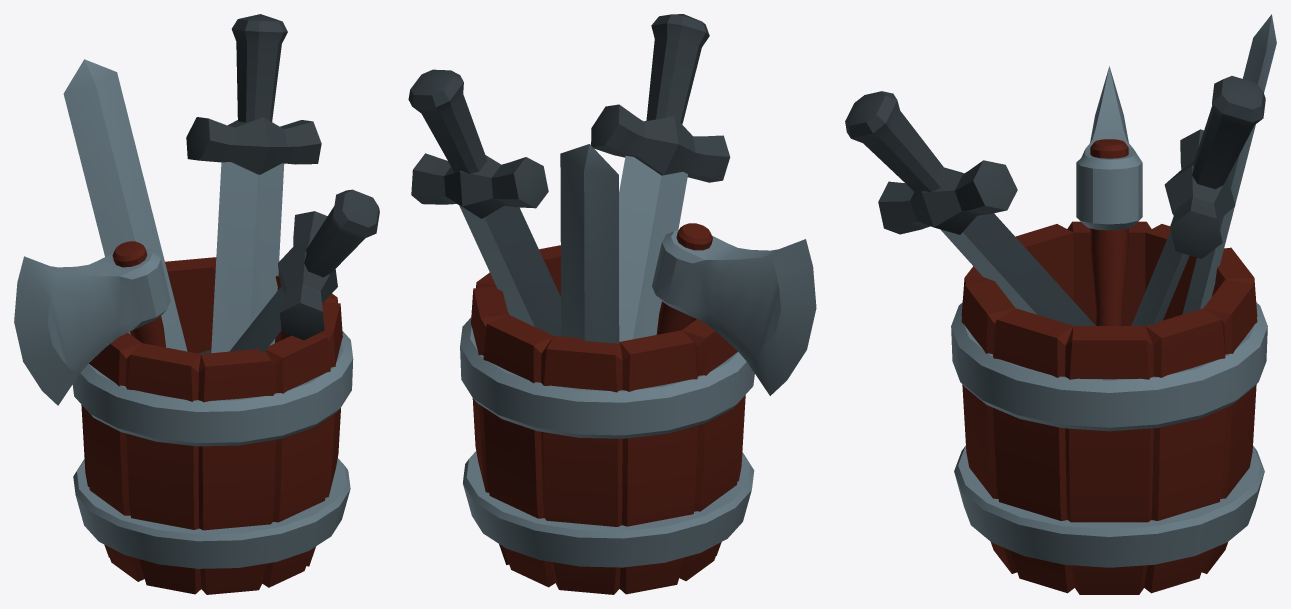
Rendered from weaponBucket.obj.
3 views of the same model, side by side, from view 1: azimuth 30°, elevation 25°; view 2: azimuth 150°, elevation 25°; view 3: azimuth 270°, elevation 25° (orthographic). The views are drawn at different scales.
Parts seen in each view (by area): view 1: weaponBucket_Cylinder.018; view 2: weaponBucket_Cylinder.018; view 3: weaponBucket_Cylinder.018.
Boxes of the visible parts, left/top/right/bottom form: weaponBucket_Cylinder.018: left=14, top=14, right=379, bottom=594; weaponBucket_Cylinder.018: left=408, top=14, right=816, bottom=594; weaponBucket_Cylinder.018: left=845, top=14, right=1276, bottom=594.
Size of the model in its own units: 0.8053 by 1.06 by 0.7955.
